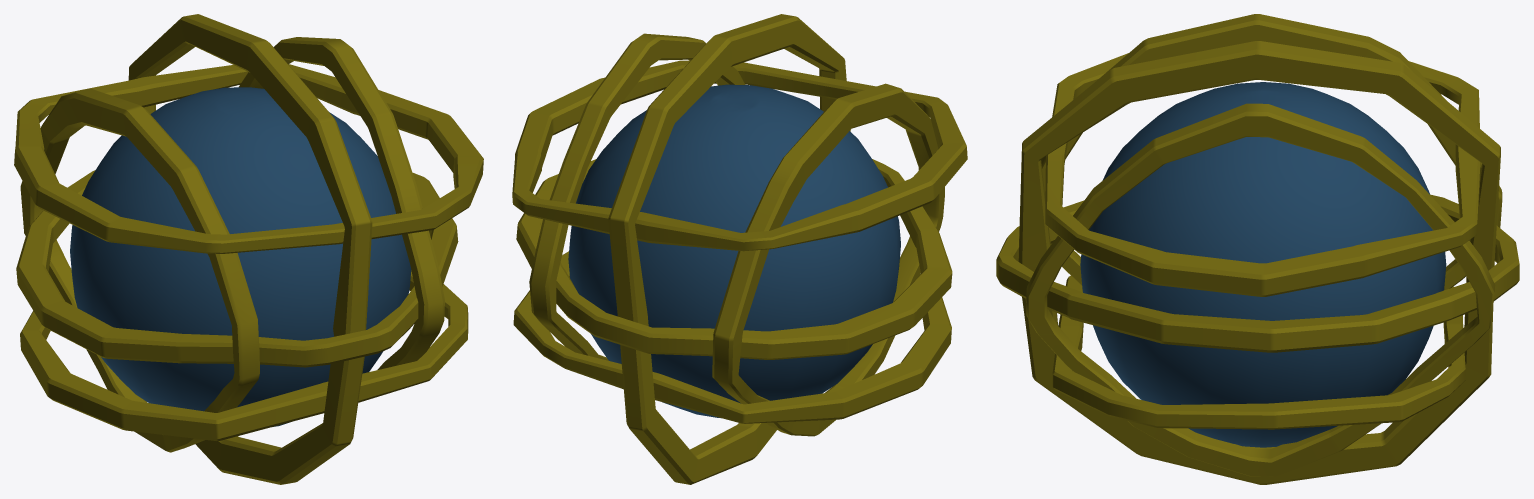
File: Orb.fbx
3 renders of one model, left to right at view 1: azimuth 30°, elevation 25°; view 2: azimuth 150°, elevation 25°; view 3: azimuth 270°, elevation 25°, orthographic. The views are drawn at different scales.
Parts seen in each view (by area): view 1: Orb; view 2: Orb; view 3: Orb.
Boxes of the visible parts, x1,y1,x2,y2 form: Orb: [14, 14, 483, 484]; Orb: [512, 14, 967, 484]; Orb: [996, 14, 1519, 484].
Size of the model in its own units: 0.1966 by 0.1917 by 0.2012.
